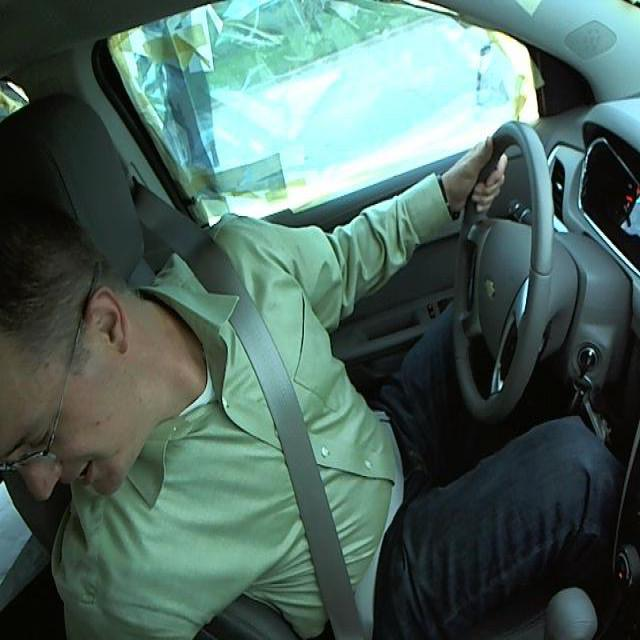seatbelt: (211, 300, 407, 632)
